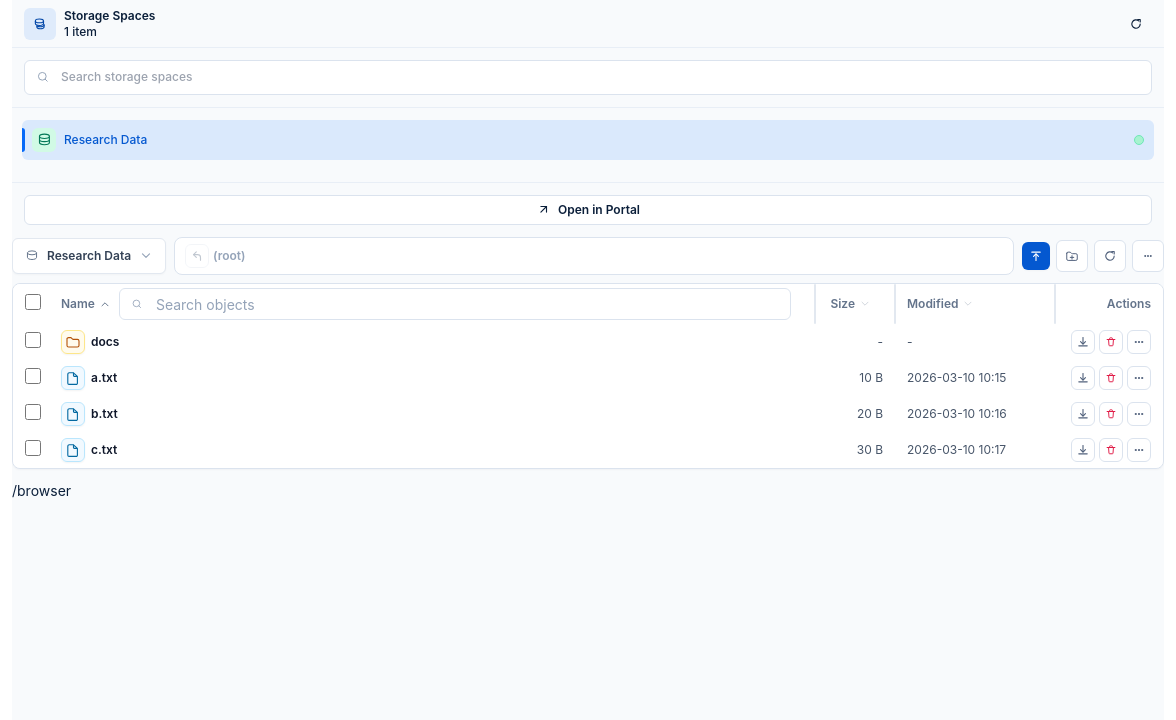
Test: BrowserPage interactions › uses the shared Storage Space drawer in the full Browser
The width and height of the screenshot is (1176, 720).
What coordinates should you click on to do the following:
click the button with aria-label "Open file a.txt"
I would click on:
 (73, 378)
Its box is [61,366,803,390].
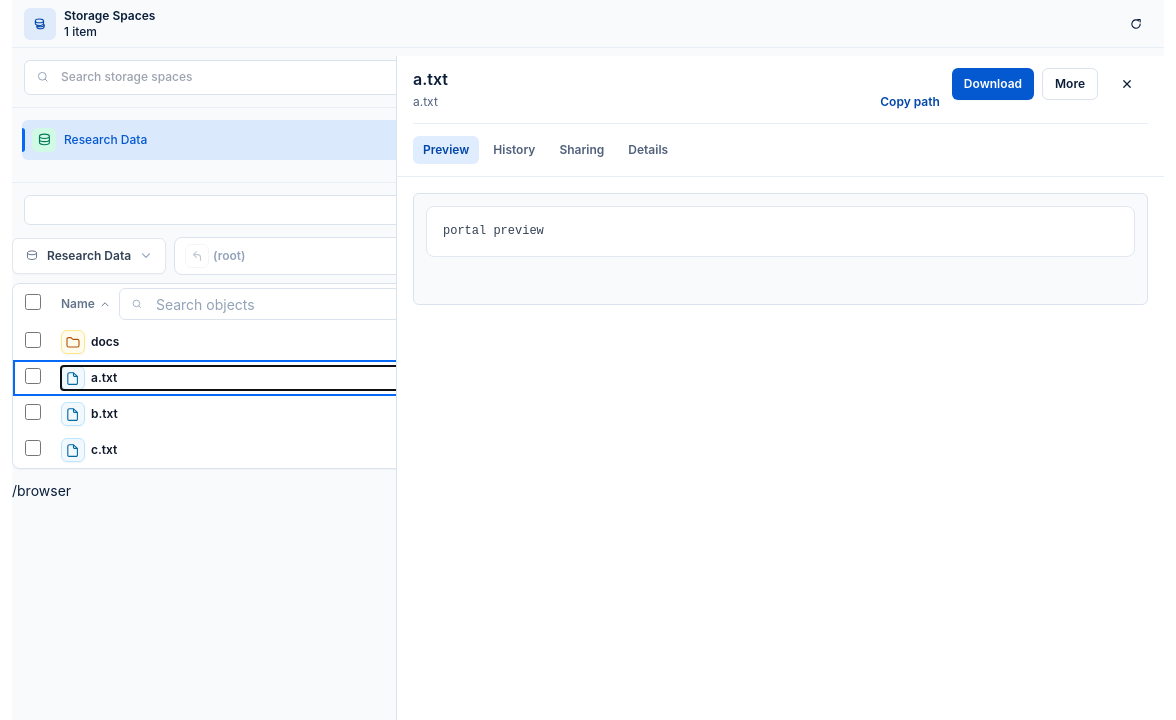
Check: the tab "Preview" is shown, box [413,136,479,164]
Check: the tab "History" is shown, box [483,136,545,164]
Check: the tab "Sharing" is shown
What coordinates should you click on to do the following:
click the tab "Sharing"
I would click on:
 (582, 150)
Its box is [549,136,614,164].
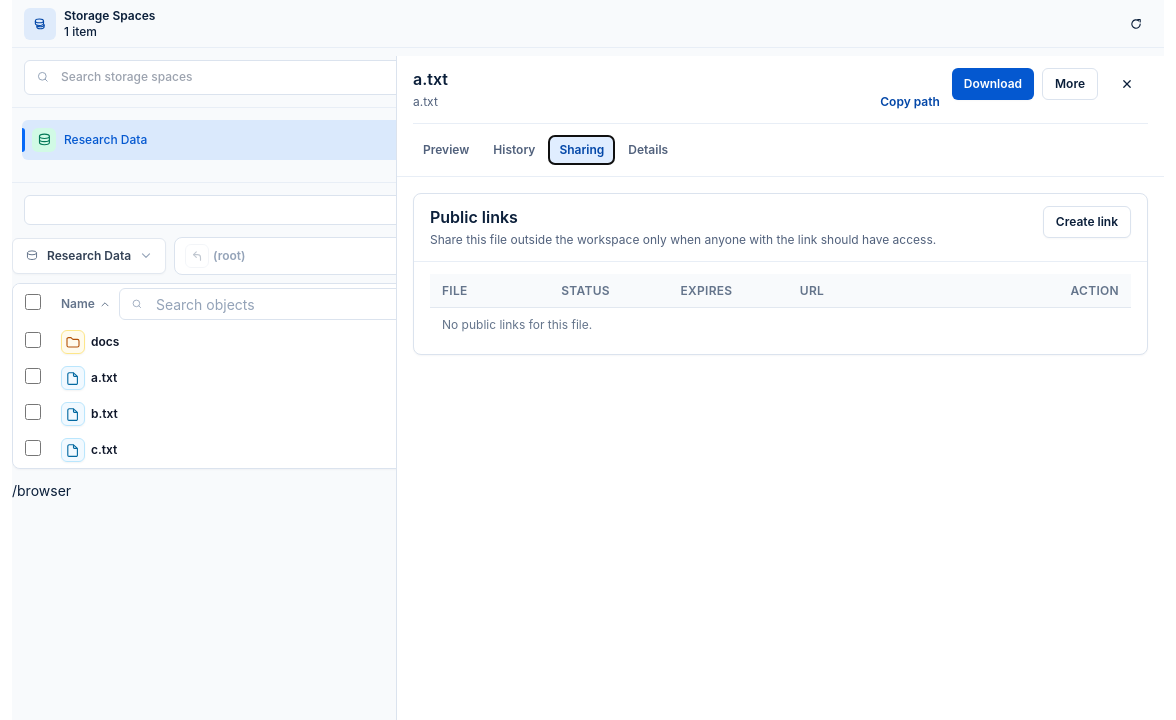
Check: the button "Create link" is enabled, box [1043,206,1131,238]
